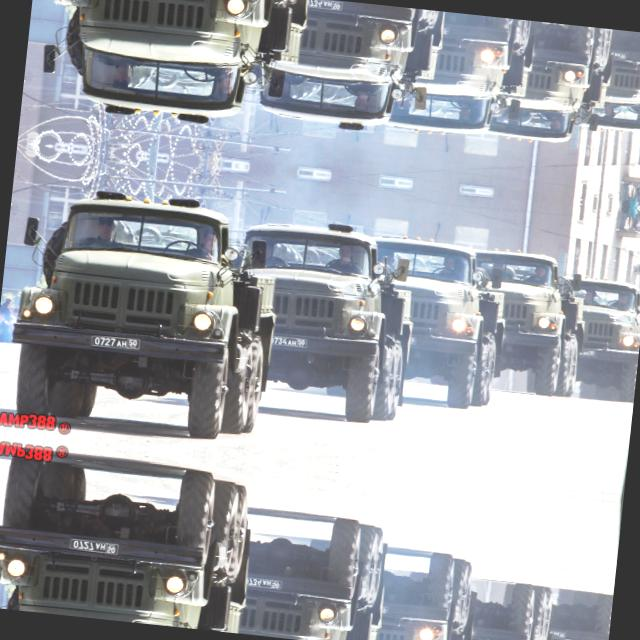military: (86, 329, 146, 353), (64, 534, 124, 558), (268, 330, 308, 351), (242, 572, 282, 593), (303, 0, 342, 12)
